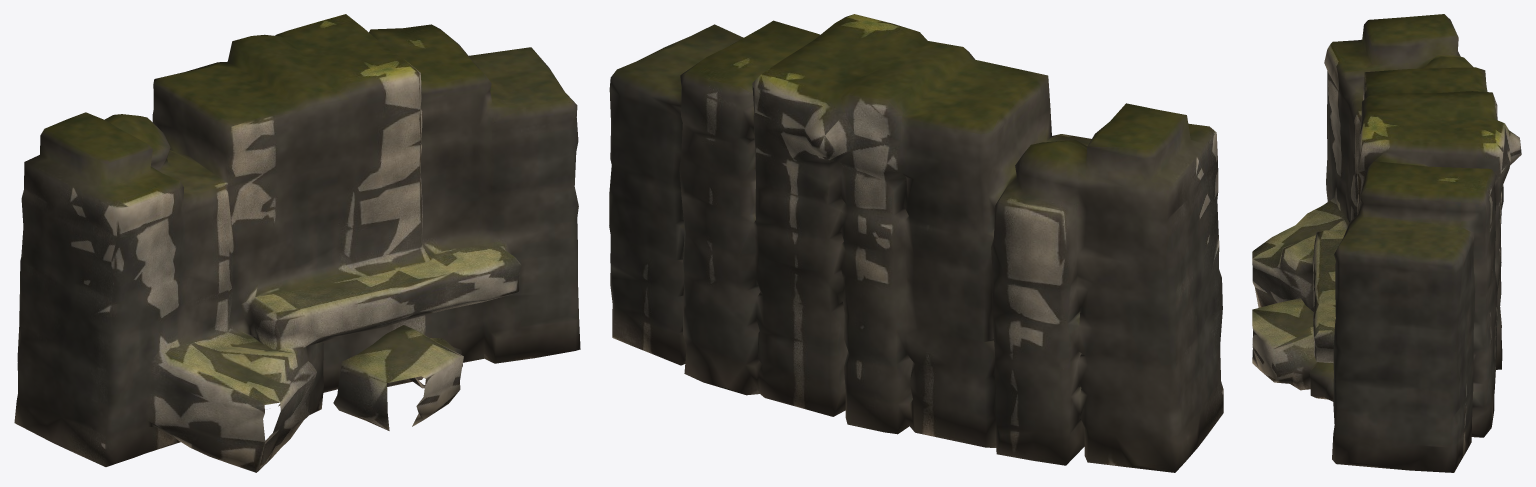
Rendered from lf_arena_cliff_b.glb.
3 views of the same model, side by side, from view 1: azimuth 30°, elevation 25°; view 2: azimuth 150°, elevation 25°; view 3: azimuth 270°, elevation 25° (orthographic). The views are drawn at different scales.
Visible parts, largest first — view 1: lf_arena_cliff_b_LOD0; view 2: lf_arena_cliff_b_LOD0; view 3: lf_arena_cliff_b_LOD0.
Part boxes in pixels (box(x1,y1,x2,y2)): lf_arena_cliff_b_LOD0: box(14, 14, 580, 472); lf_arena_cliff_b_LOD0: box(609, 14, 1223, 472); lf_arena_cliff_b_LOD0: box(1252, 14, 1521, 472).
Size of what is drawn, in the model's own units: 10.18 by 5.7 by 5.23.
1 material, 1 textured.
